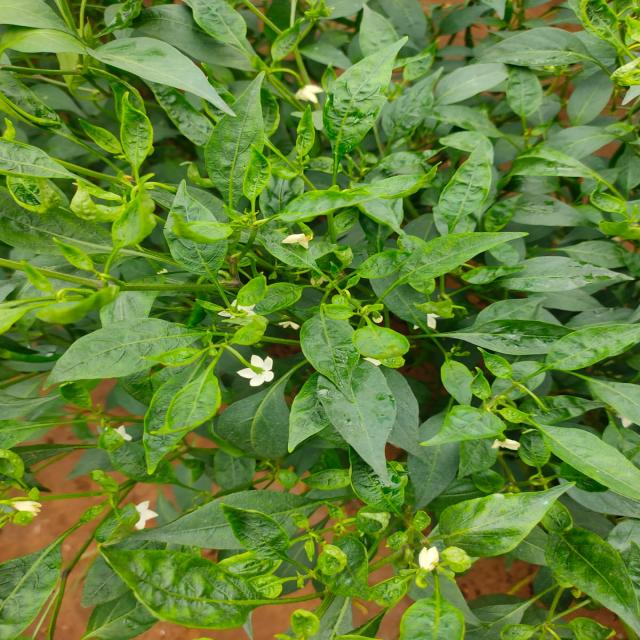Moko: (7, 240, 293, 451), (120, 493, 473, 640), (244, 215, 479, 398), (206, 62, 428, 245), (0, 99, 246, 263), (427, 344, 617, 556), (0, 0, 216, 113), (501, 164, 640, 296), (0, 439, 138, 570), (519, 0, 640, 140)
